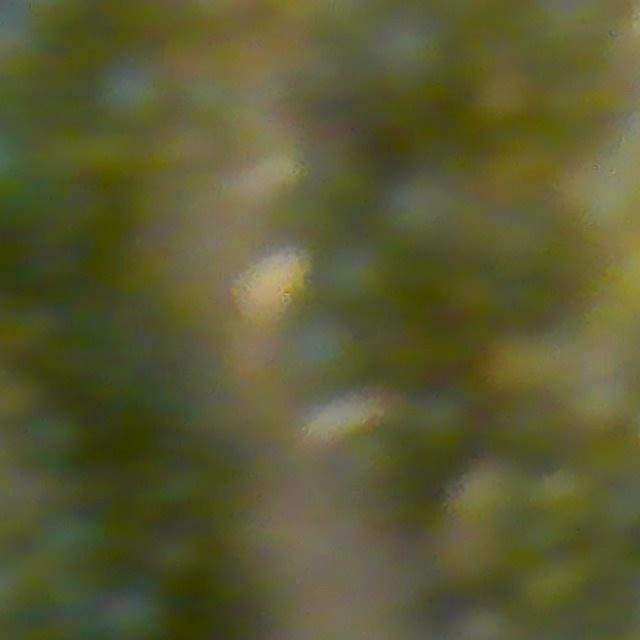SeaGrape: (277, 308, 365, 395), (95, 54, 176, 131), (324, 238, 396, 300), (476, 67, 538, 128), (100, 589, 166, 640)
